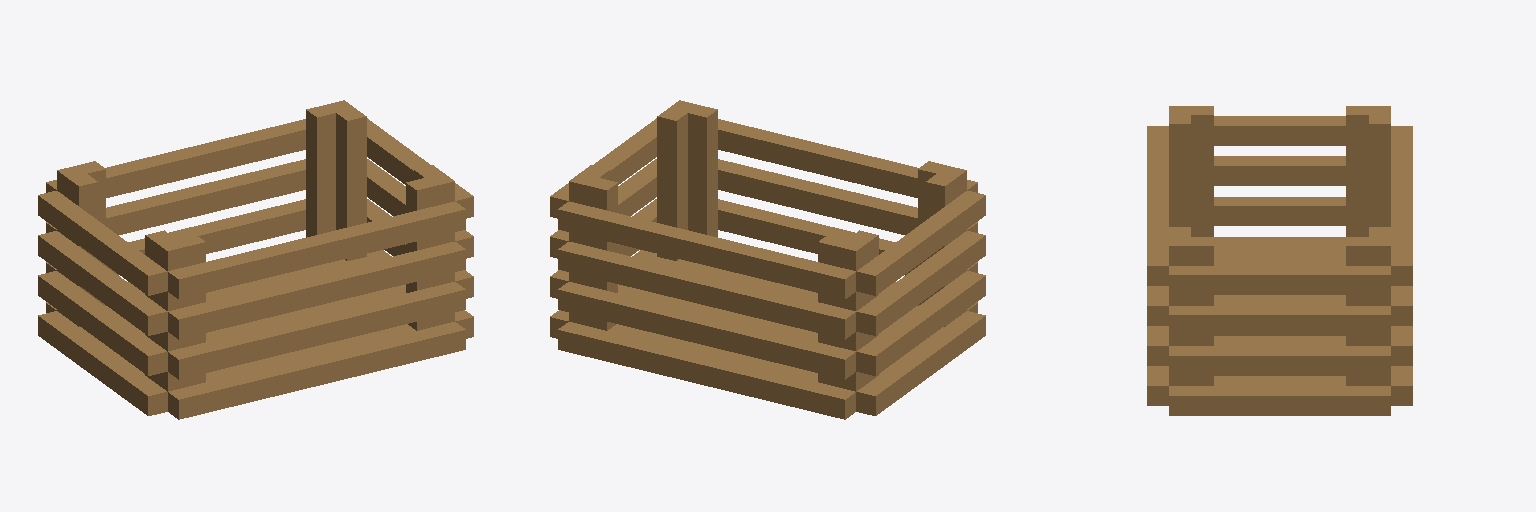
The picture shows the model from 3 angles: view 1: azimuth 30°, elevation 25°; view 2: azimuth 150°, elevation 25°; view 3: azimuth 270°, elevation 25°; orthographic projection.
Visible parts, largest first — view 1: Wooden Crate 01; view 2: Wooden Crate 01; view 3: Wooden Crate 01.
Boxes of the visible parts, <box> form: Wooden Crate 01: <box>38,100,473,419</box>; Wooden Crate 01: <box>550,100,985,419</box>; Wooden Crate 01: <box>1147,106,1412,415</box>.
Bounding box in the file's own units: 1.7 × 0.8 × 1.2.
Materials: 1 (1 with a texture image).